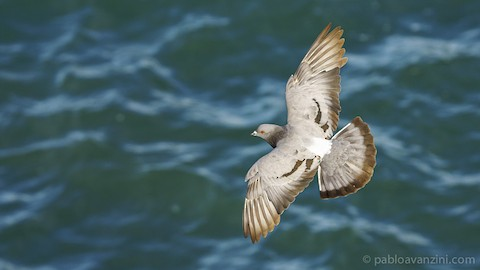pigeon: (234, 19, 383, 247)
